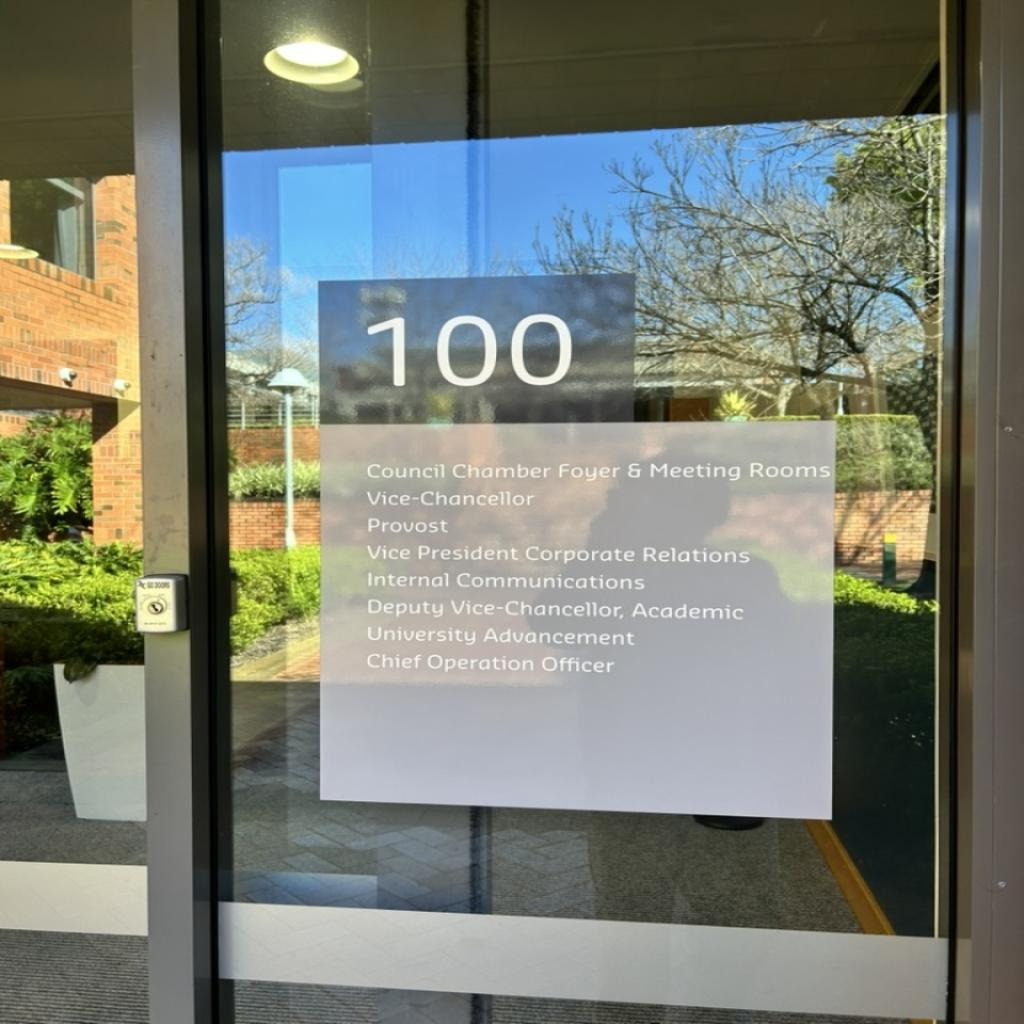BuildingCodes: (362, 310, 576, 390)
